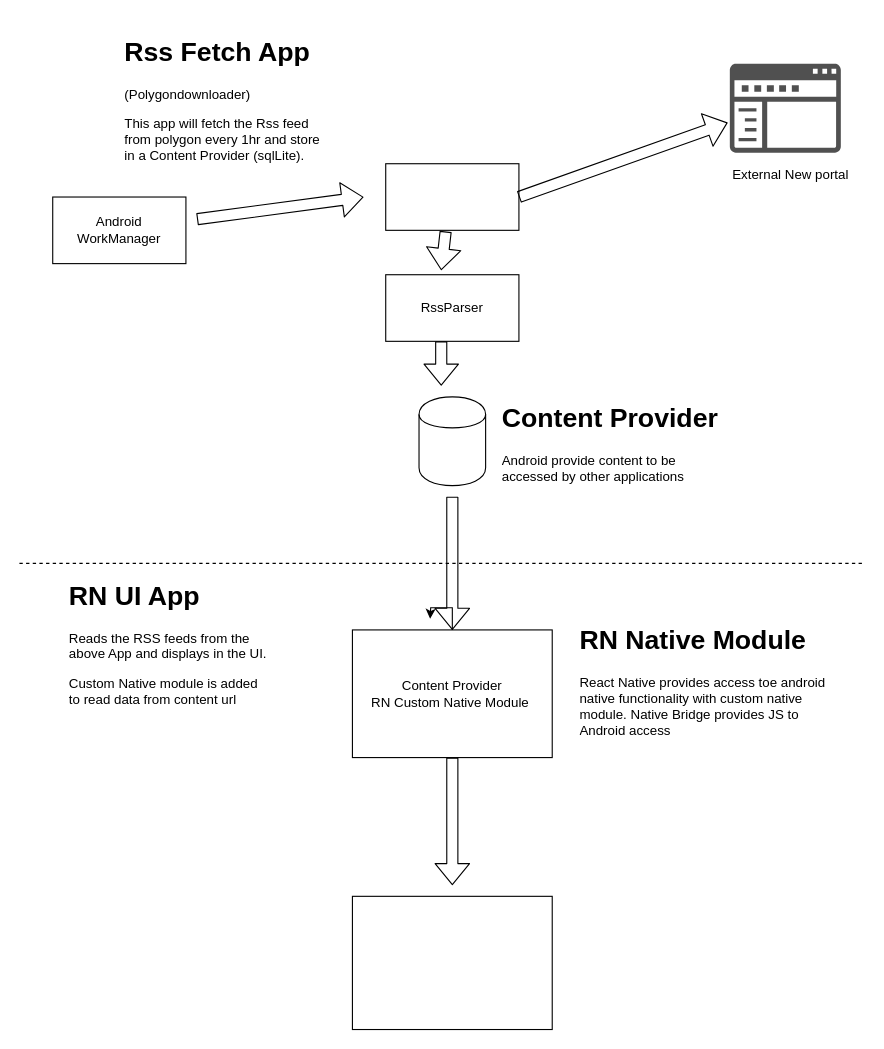
Image size: 884x1049. Some labels were removed from this diagram. The shapes that lost their labels are listed below. From the top down, each one's box as (x1, y1, x2, y2) in pixels, then its label:
(385, 163, 519, 230): Network
(351, 895, 552, 1030): RN UI App
